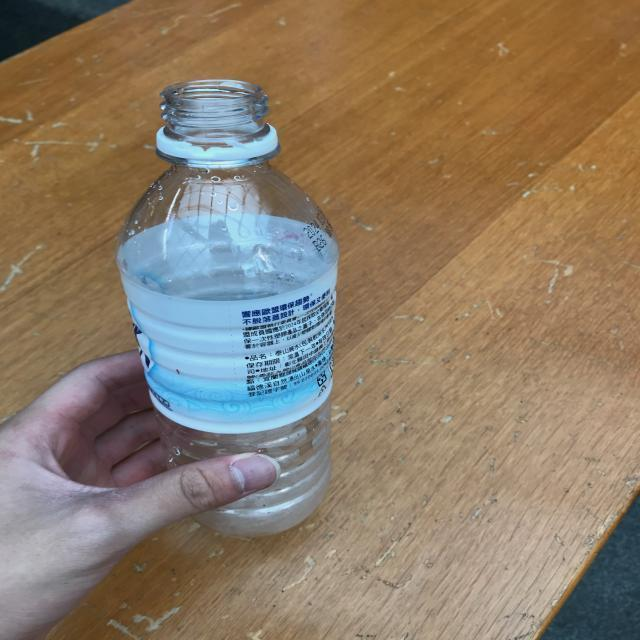plastic_bottle: (116, 79, 340, 537)
